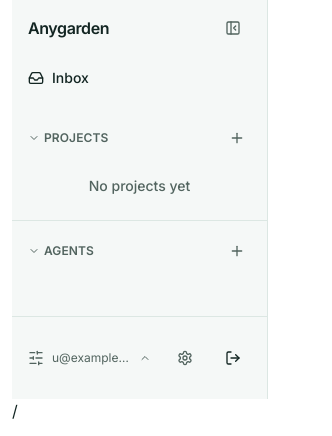
Sidebar — footer admin menu (#699) › shows all seven links only after opening the admin settings menu
Expected: the button "Machines" is not shown
Click the button named "Admin settings".
click(185, 358)  # box [163, 336, 207, 380]
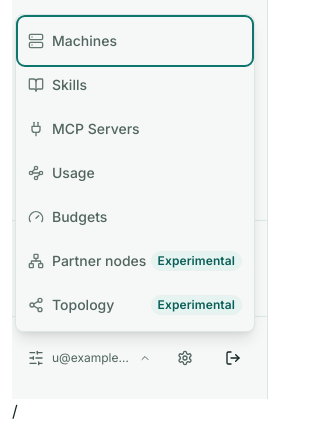
Result: the element named "Admin navigation" is shown at [15, 14, 255, 332]
Result: the button "Machines" is shown at [20, 19, 250, 63]
Result: the button "Skills" is shown at [20, 63, 250, 107]
